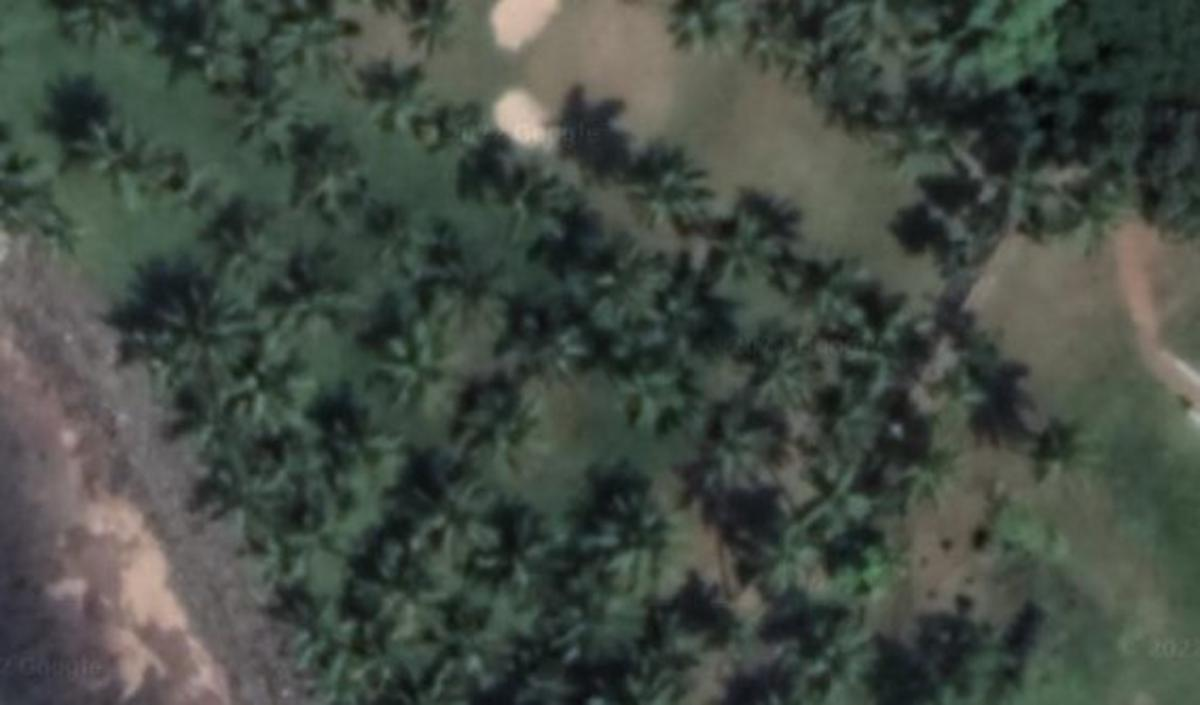coconut: (448, 381, 554, 478), (148, 283, 256, 378), (461, 495, 552, 607), (226, 345, 319, 442), (628, 143, 723, 235), (694, 408, 783, 503), (582, 486, 666, 582), (609, 357, 706, 438), (425, 241, 507, 334), (368, 317, 452, 406), (67, 105, 150, 194), (319, 419, 406, 503), (1020, 412, 1104, 497), (491, 165, 573, 249), (706, 211, 785, 298), (793, 603, 876, 685), (209, 209, 285, 298), (273, 254, 355, 336), (736, 334, 808, 421), (292, 146, 366, 230), (510, 302, 586, 381), (884, 423, 954, 508), (364, 61, 431, 146), (232, 84, 304, 158)
